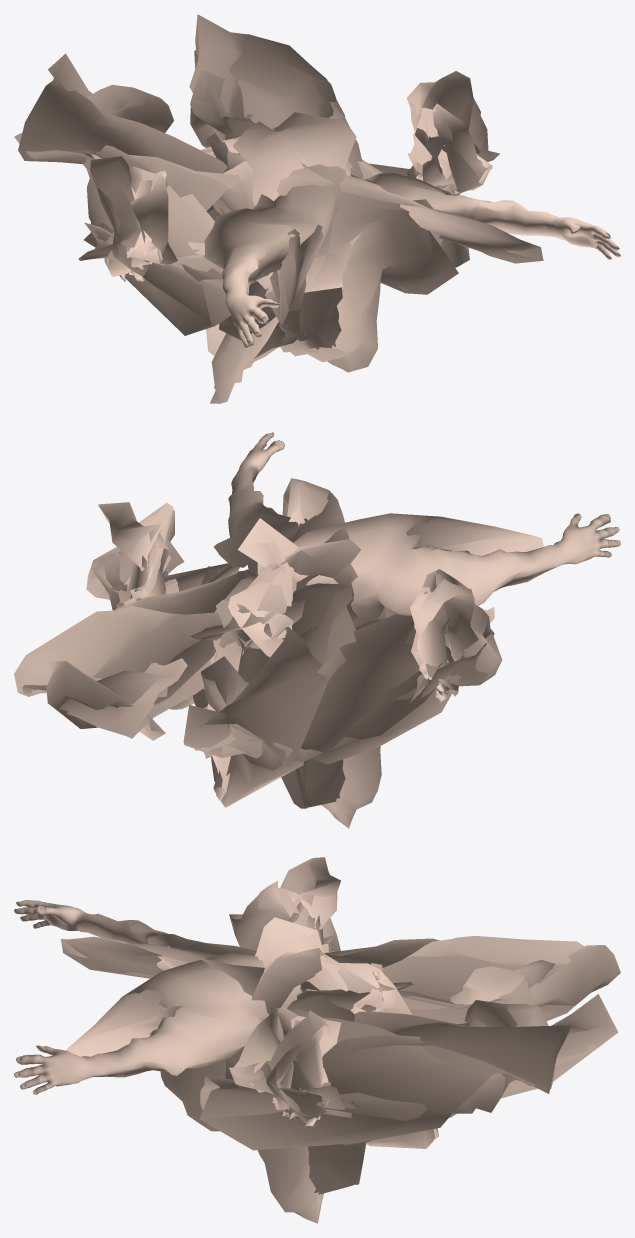
File: makehuman_base.glb
3 renders of one model, top to bottom at view 1: azimuth 30°, elevation 25°; view 2: azimuth 150°, elevation 25°; view 3: azimuth 270°, elevation 25°, orthographic. The views are drawn at different scales.
Parts seen in each view (by area): view 1: Human; view 2: Human; view 3: Human.
Part boxes in pixels (<box>): Human: <box>14,14,620,403</box>; Human: <box>14,432,620,828</box>; Human: <box>14,857,620,1223</box>.
Bounding box in the file's own units: 5.16 × 3.24 × 6.97.
